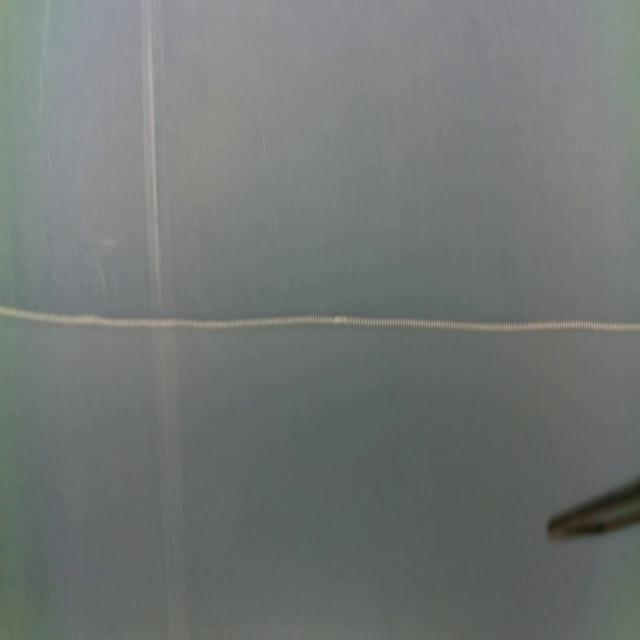crease: (140, 0, 191, 640)
